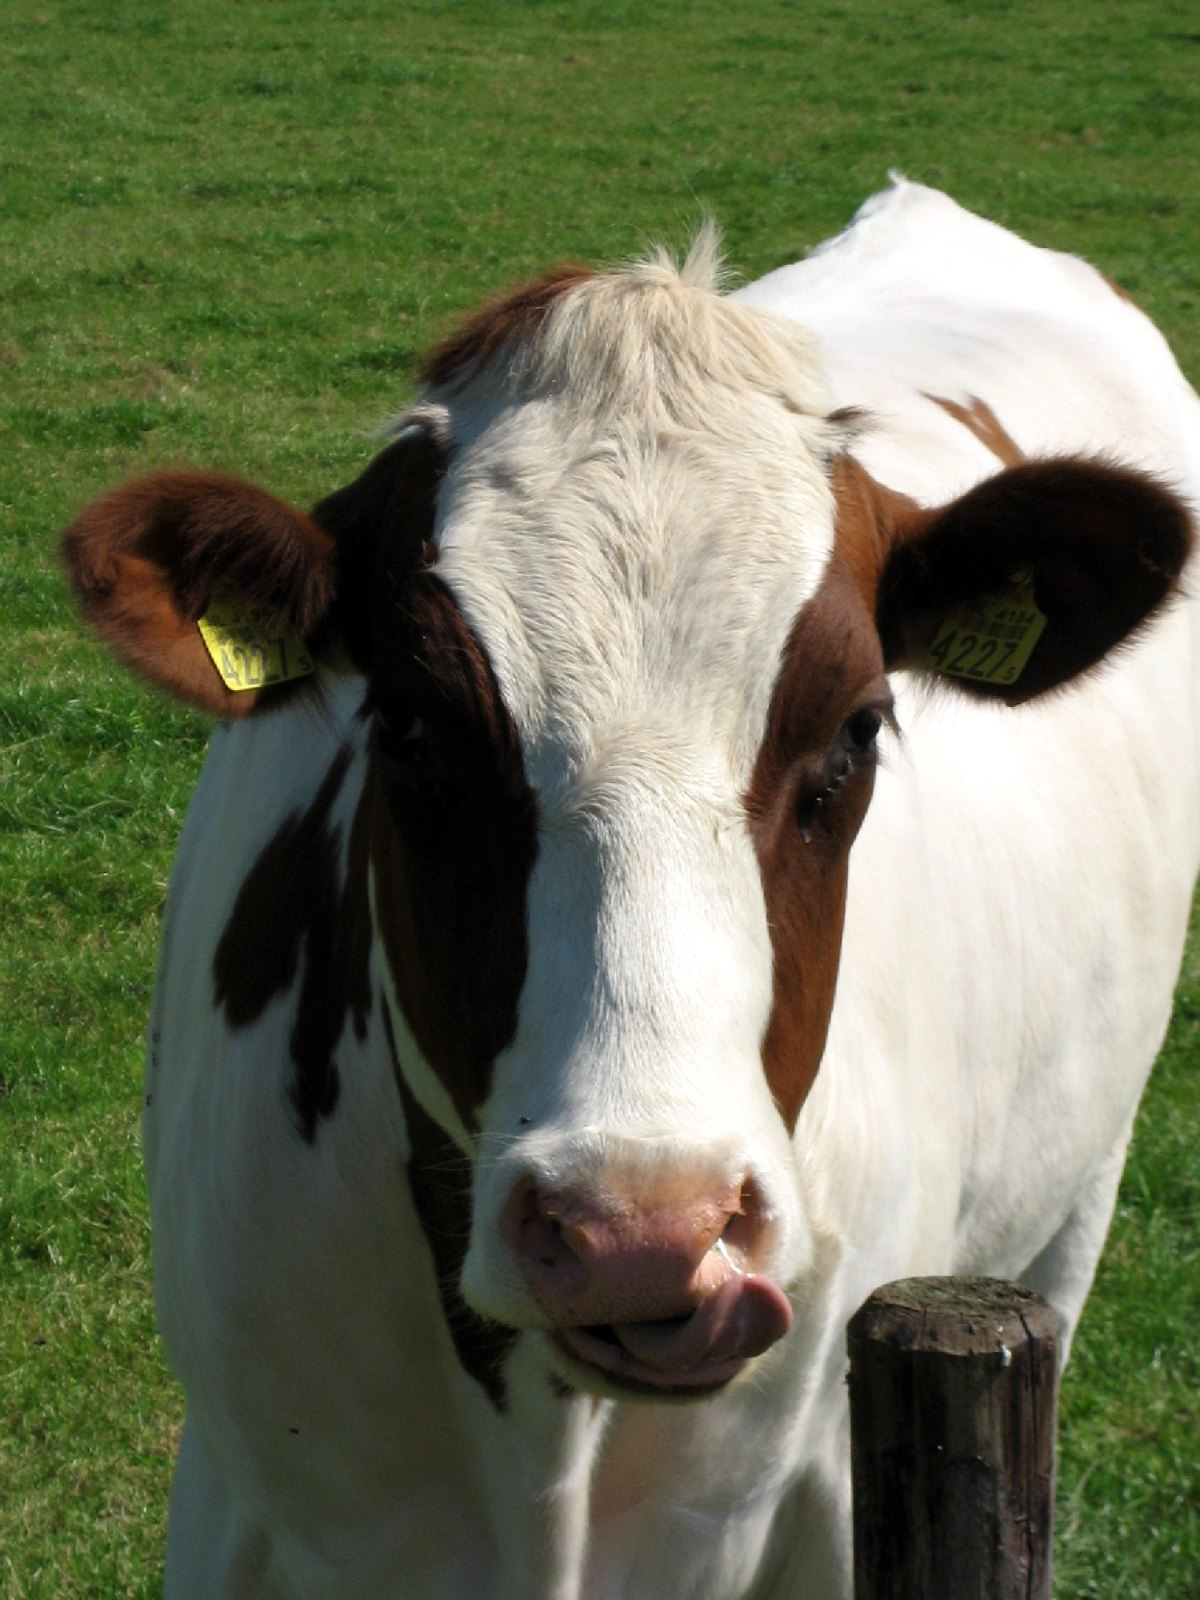cow: (77, 157, 1174, 1587)
